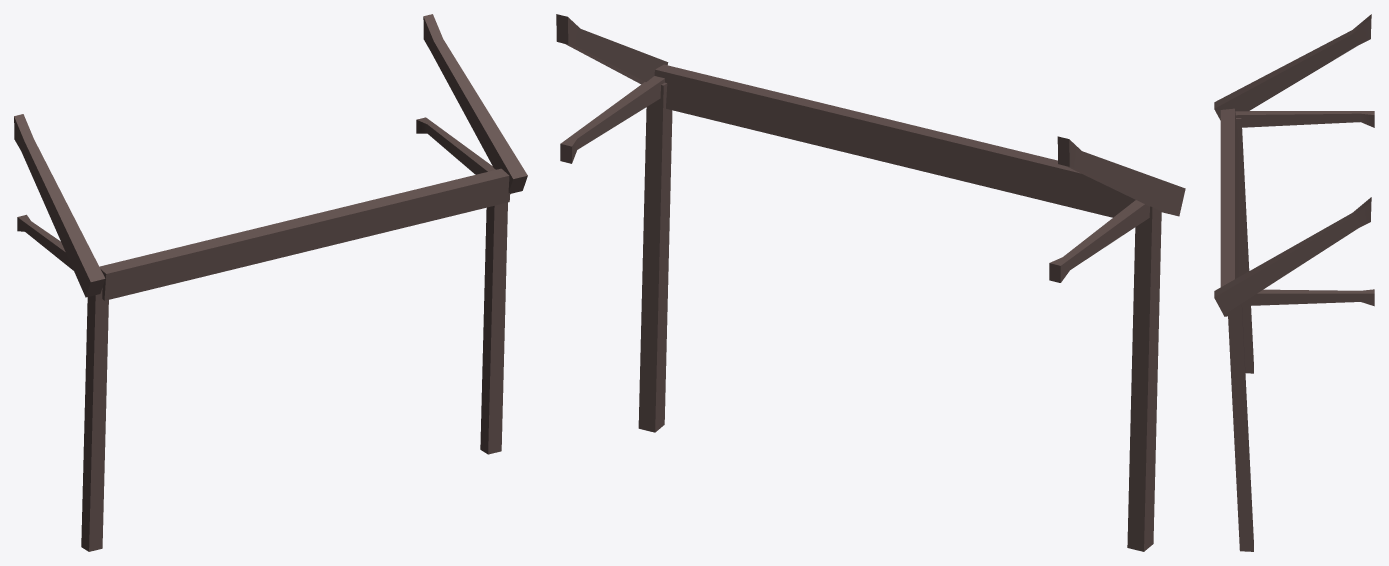
File: Module_Building_Veranda.fbx
3 views of the same model, side by side, from view 1: azimuth 30°, elevation 25°; view 2: azimuth 150°, elevation 25°; view 3: azimuth 270°, elevation 25° (orthographic). The views are drawn at different scales.
Parts seen in each view (by area): view 1: Module_Building_Veranda; view 2: Module_Building_Veranda; view 3: Module_Building_Veranda.
Boxes of the visible parts, x1,y1,x2,y2 form: Module_Building_Veranda: (14, 14, 527, 551); Module_Building_Veranda: (556, 14, 1185, 551); Module_Building_Veranda: (1214, 14, 1374, 551).
Bounding box in the file's own units: 324 × 272 × 113.
